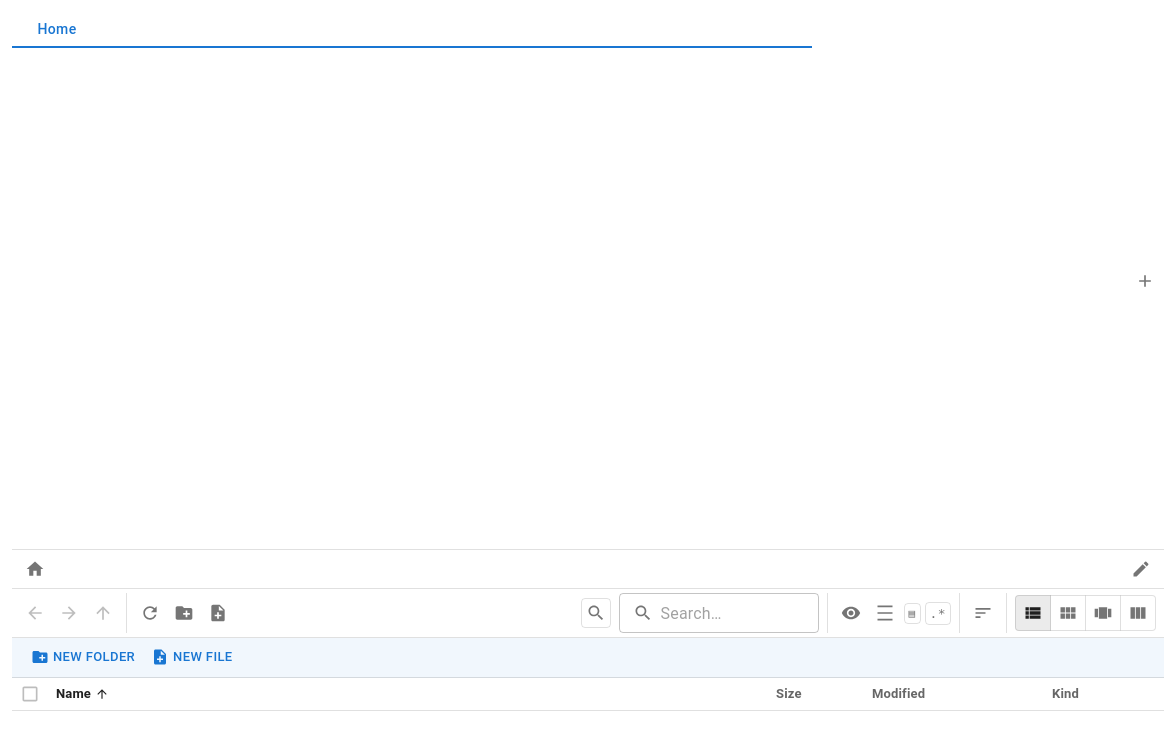
Test: BrowserTabs › clicking the + button opens a second tab
Click the button named "New tab".
click(1145, 280)  # box [1130, 266, 1160, 296]
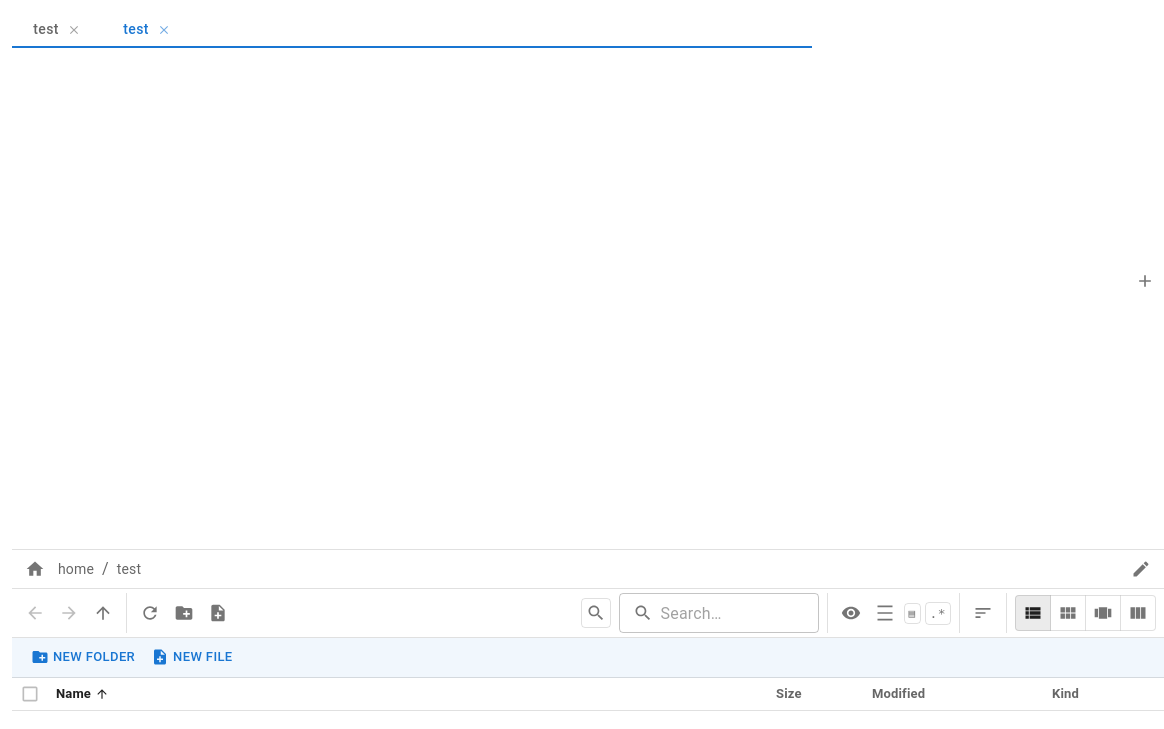
Check: the number of tabs is 2, box [12, 12, 102, 48]; [102, 12, 192, 48]
